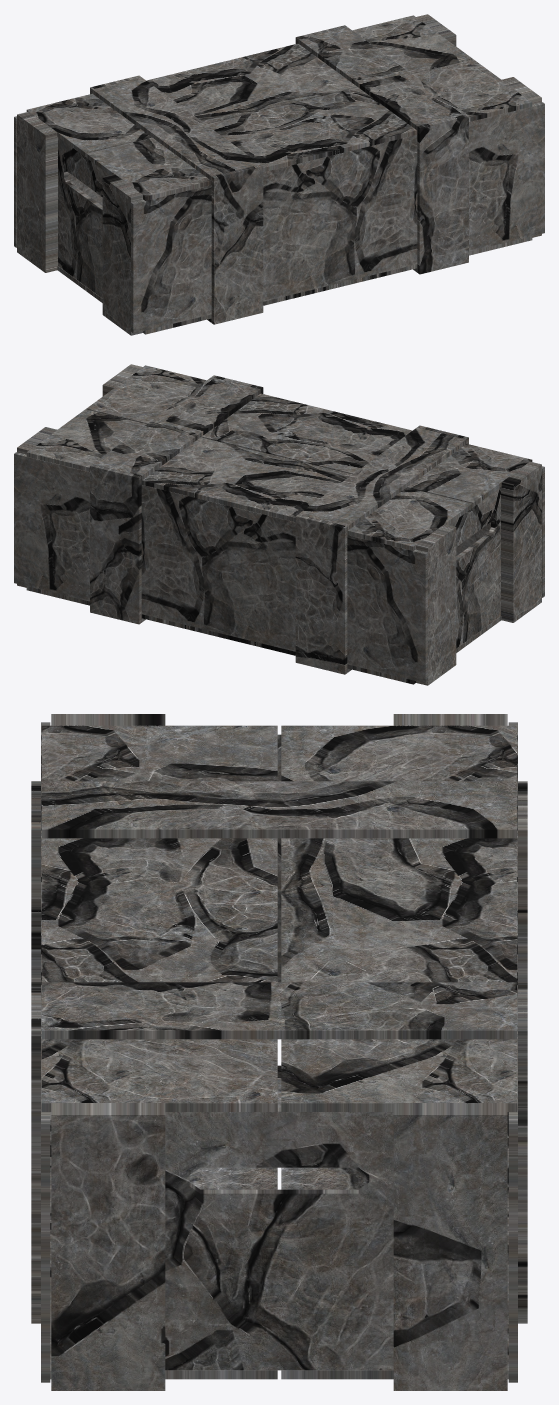
File: Crate-02.FBX
3 renders of one model, top to bottom at view 1: azimuth 30°, elevation 25°; view 2: azimuth 150°, elevation 25°; view 3: azimuth 270°, elevation 25°, orthographic. The views are drawn at different scales.
Parts seen in each view (by area): view 1: Crate-02_case, Crate-02_cover; view 2: Crate-02_case, Crate-02_cover; view 3: Crate-02_cover, Crate-02_case.
Part boxes in pixels (x1,y1,x2,y2): Crate-02_case: (14, 14, 544, 335); Crate-02_cover: (26, 15, 532, 200); Crate-02_case: (14, 364, 544, 685); Crate-02_cover: (26, 365, 532, 550); Crate-02_cover: (41, 725, 517, 1111); Crate-02_case: (31, 714, 527, 1390).
Bounding box in the file's own units: 0.5 × 0.17 × 0.261.
